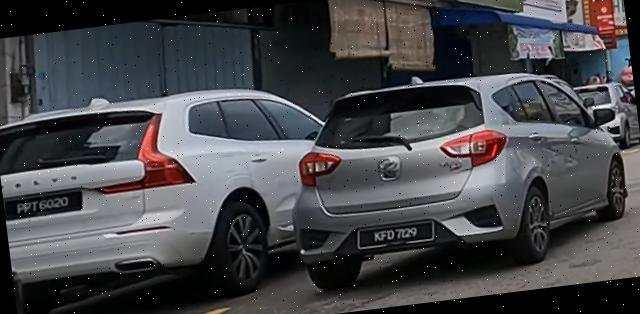License_Plate: (7, 193, 78, 219), (361, 223, 434, 248)
car: (276, 53, 636, 295), (1, 69, 347, 314)
